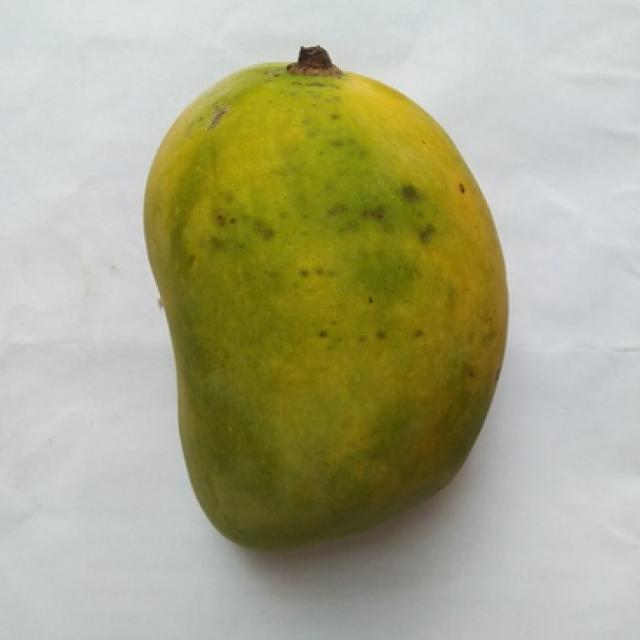Mango: (146, 64, 506, 547)
objects: (141, 43, 510, 550)
